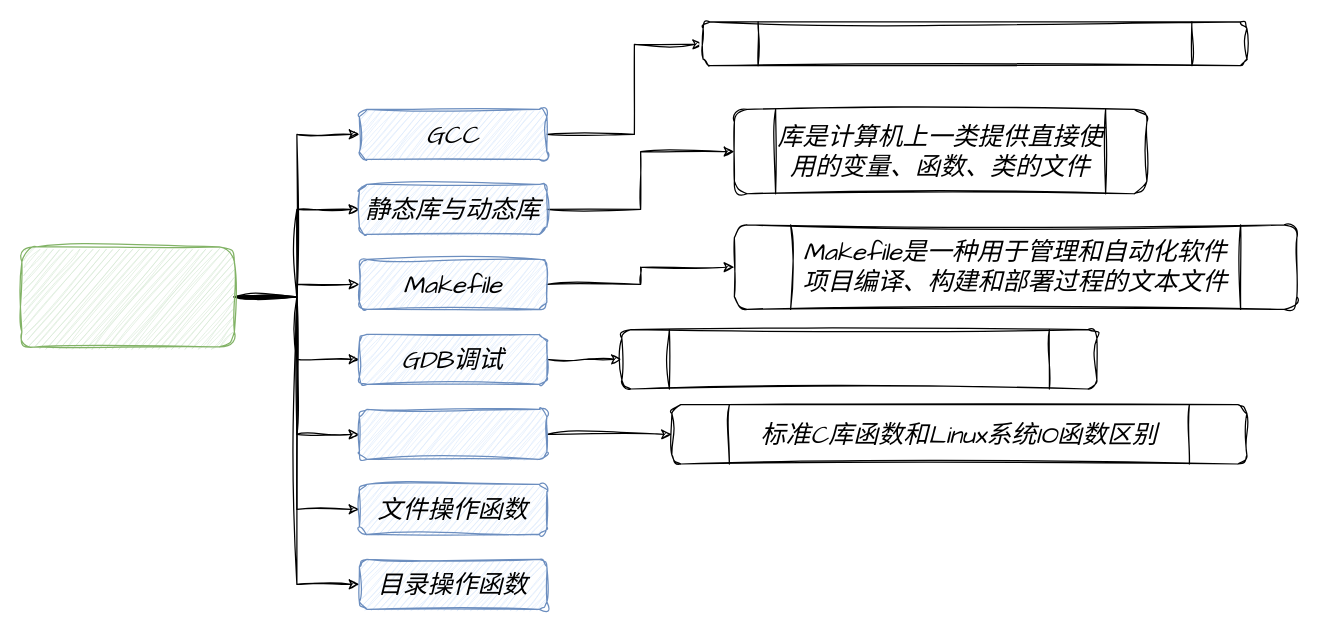
This 1319x631 diagram has some shape labels left out. The centre of each missing label's shape, as x and y in pixels:
一套由GNU项目开发的开源编译器集合: pixel 974 43
用于调试程序的开源调试工具: pixel 859 358
第一章 Linux系统编程入门: pixel 127 296
系统IO函数: pixel 452 433
